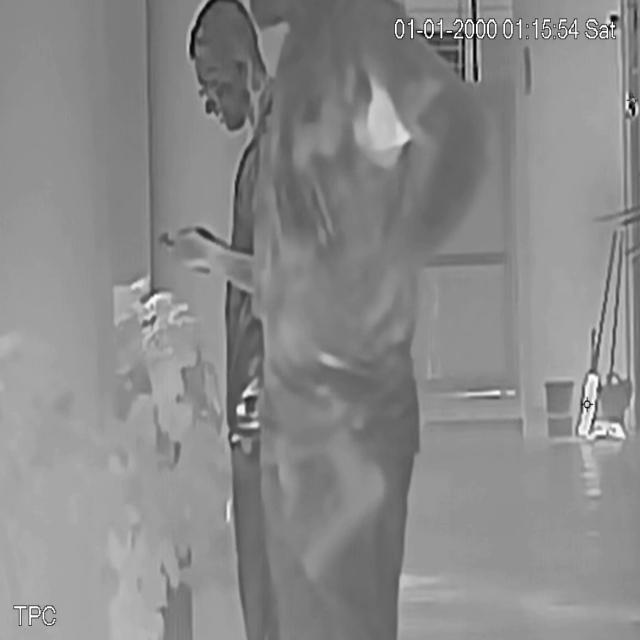Weapon: (279, 424, 389, 594)
